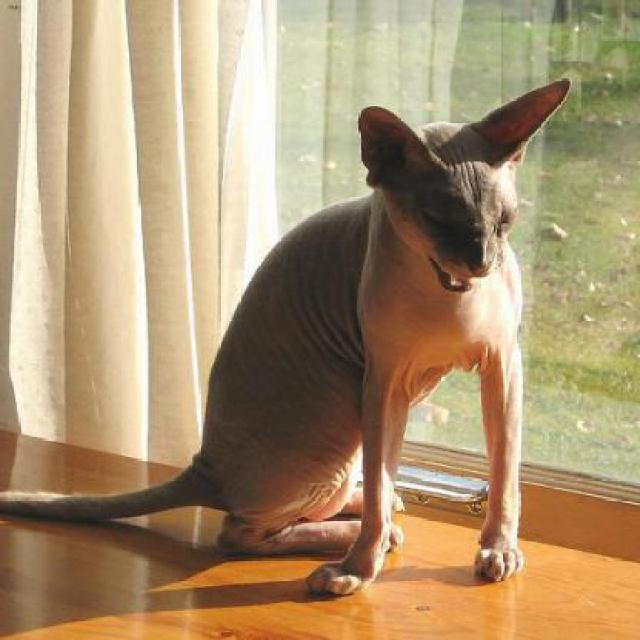cat: (0, 76, 572, 597)
